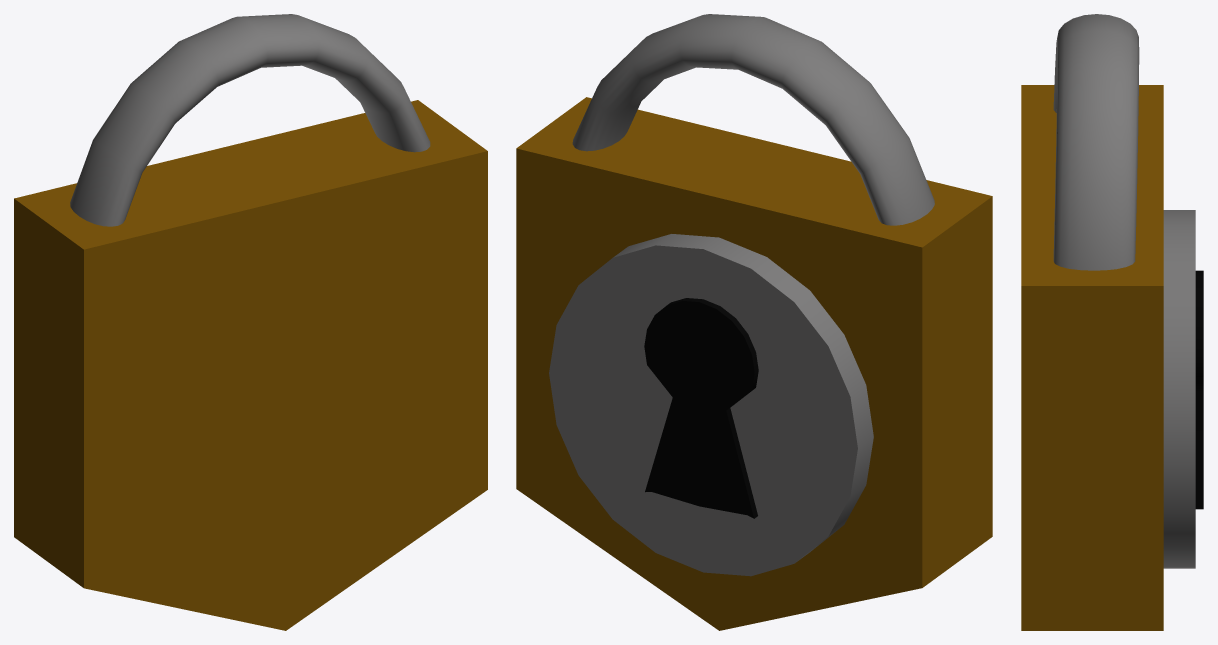
File: Giant Lock.fbx
3 views of the same model, side by side, from view 1: azimuth 30°, elevation 25°; view 2: azimuth 150°, elevation 25°; view 3: azimuth 270°, elevation 25° (orthographic).
Parts seen in each view (by area): view 1: pCylinder2; view 2: pCylinder2; view 3: pCylinder2.
Part boxes in pixels (x1,y1,x2,y2): pCylinder2: (14,14,487,630); pCylinder2: (516,14,992,630); pCylinder2: (1021,14,1203,630).
Bounding box in the file's own units: 0.9035 × 1.24 × 0.3469.
